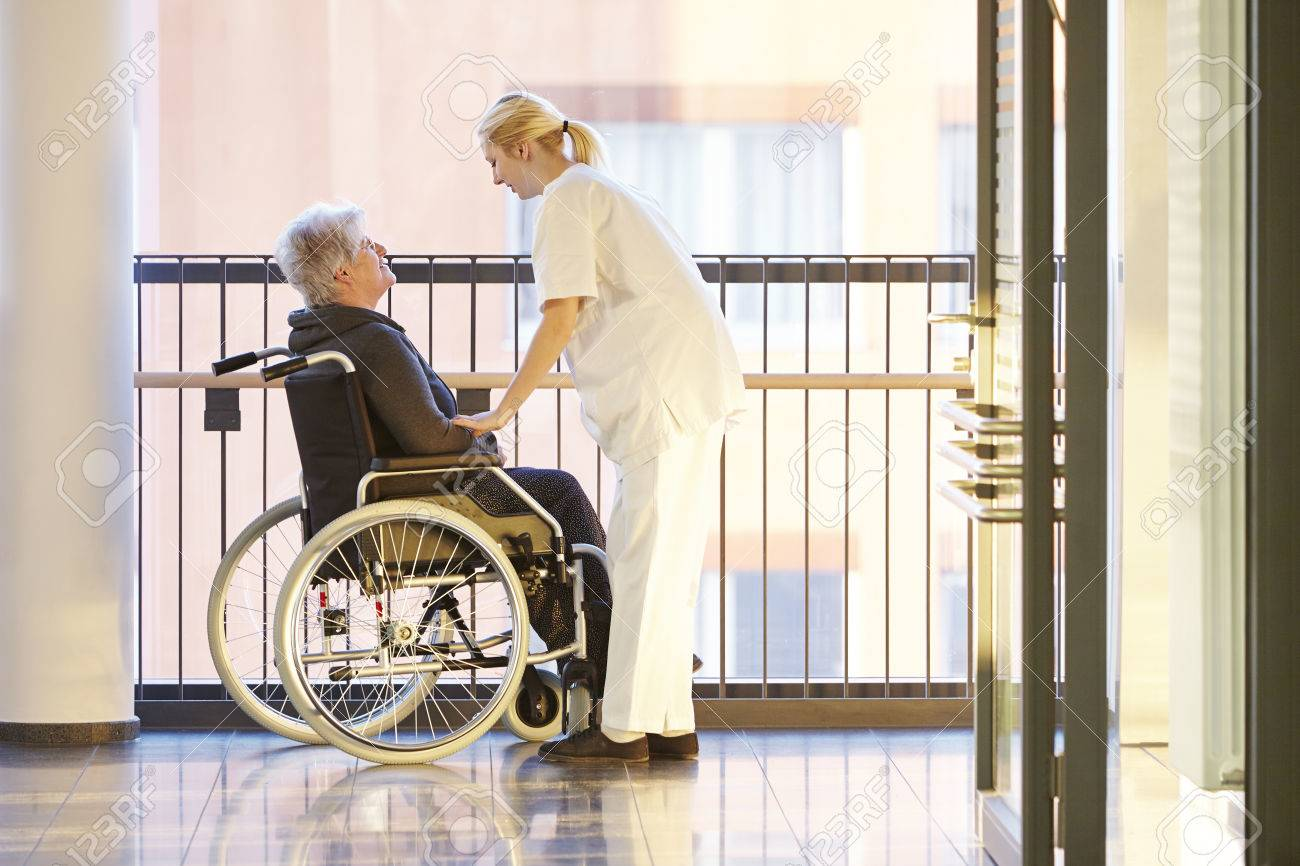wheelchair: (207, 203, 608, 762)
